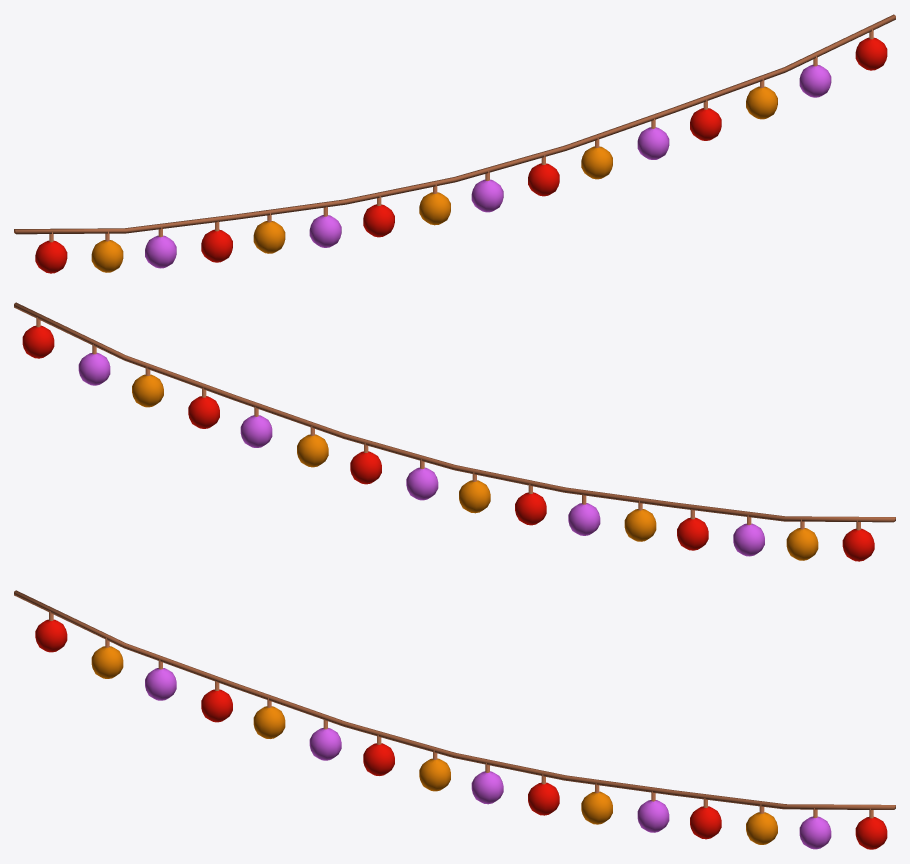
The model's file is lampCord.fbx.
3 renders of one model, top to bottom at view 1: azimuth 30°, elevation 25°; view 2: azimuth 150°, elevation 25°; view 3: azimuth 330°, elevation 25°, orthographic.
Visible parts, largest first — view 1: Sphere.046; view 2: Sphere.046; view 3: Sphere.046.
Boxes of the visible parts, box(x1,y1,x2,y2) form: Sphere.046: box(14, 14, 895, 273); Sphere.046: box(14, 302, 895, 561); Sphere.046: box(14, 590, 895, 849).
Size of the model in its own units: 1541 by 161 by 49.2.
